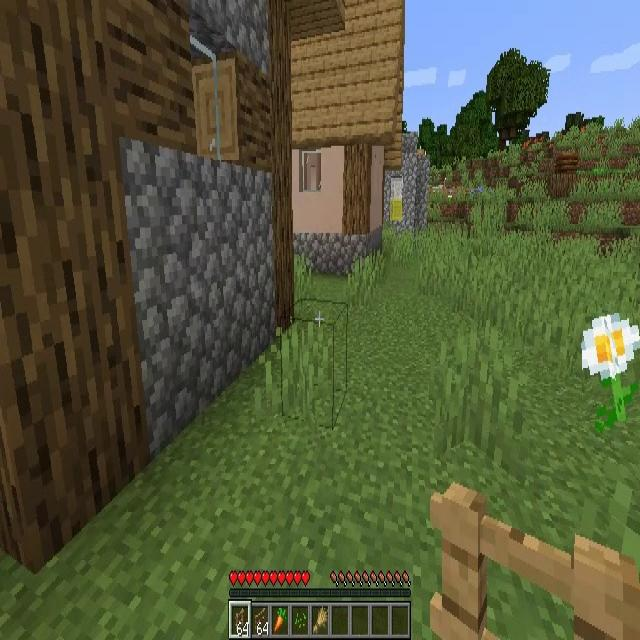flower: (582, 313, 640, 421)
